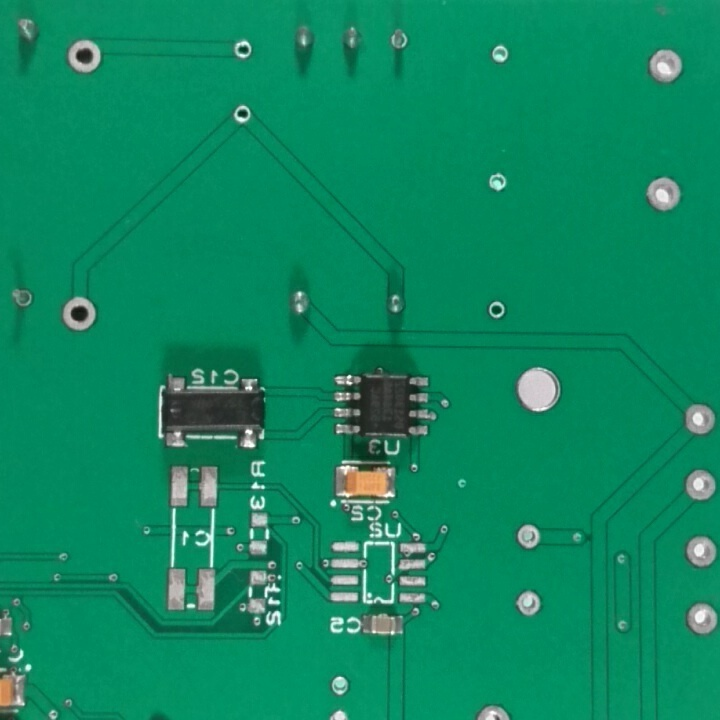F: (643, 47, 687, 87), (682, 597, 720, 642), (63, 38, 104, 77), (641, 175, 684, 212), (680, 466, 720, 505), (681, 532, 720, 571), (61, 294, 99, 334), (681, 399, 720, 437), (515, 520, 547, 553), (514, 589, 547, 620), (472, 701, 521, 720), (9, 285, 33, 312), (231, 102, 257, 126), (387, 26, 407, 57), (486, 169, 510, 194), (488, 42, 513, 66), (486, 299, 510, 323), (328, 672, 350, 697), (231, 40, 256, 61), (327, 707, 353, 720)
